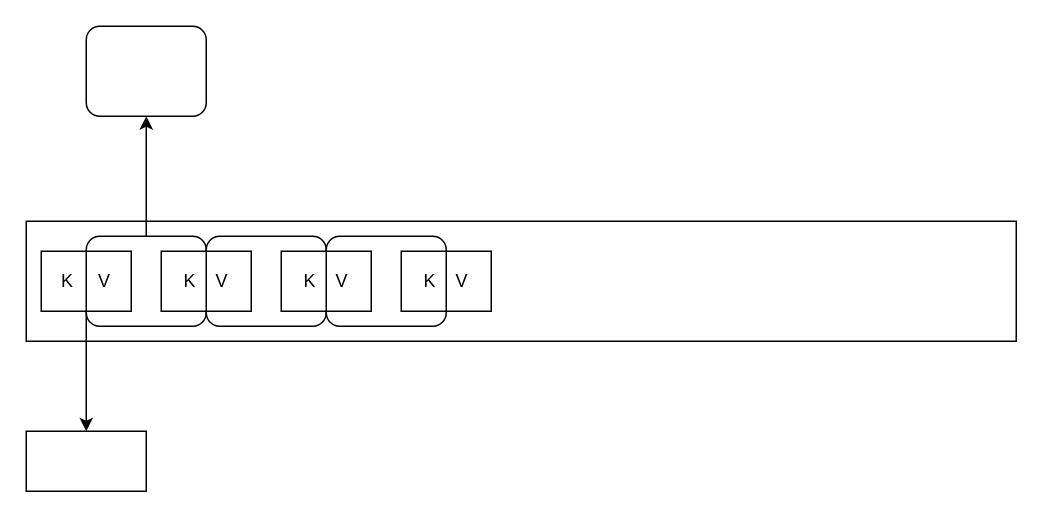
The diagram is 1043 pixels wide and 518 high, and some of its shapes have lost their labels. Here are the shapes that lost their labels. From the top down, the centre of each, then its label:
(145,70): Pointer&Key V < K
(85,460): V >= K
